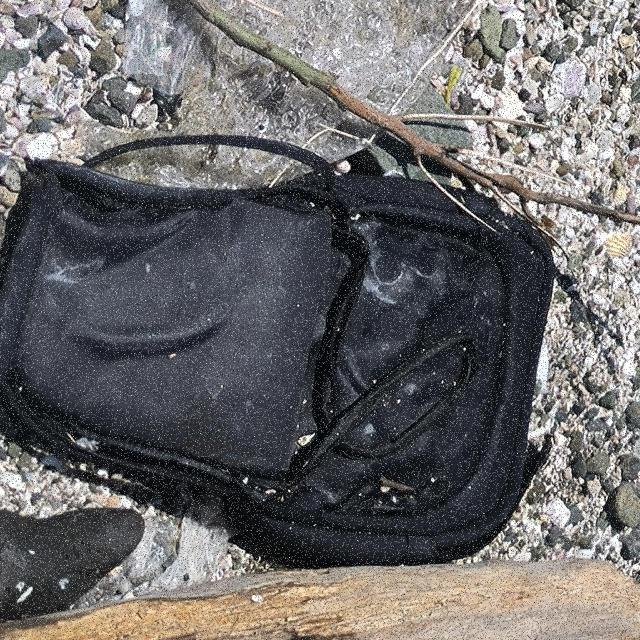textile_waste: (1, 133, 560, 569)
